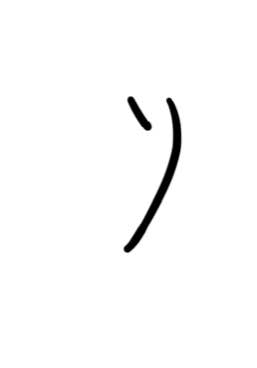so: (91, 89, 190, 265)
